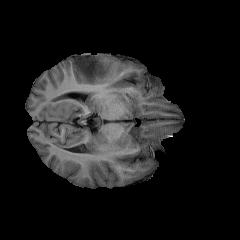glioma: (71, 56, 108, 83)
